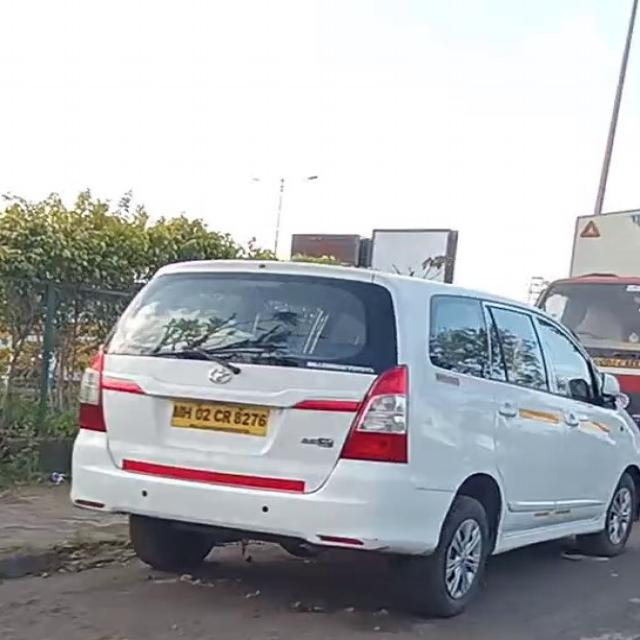Plate: (173, 399, 271, 435)
